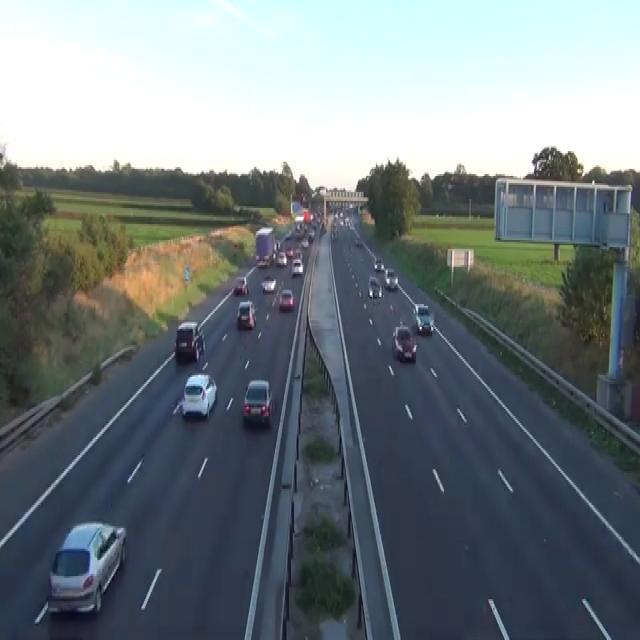Car: (46, 521, 126, 615), (181, 372, 217, 419), (45, 614, 111, 638), (243, 378, 274, 426), (175, 320, 205, 361), (392, 323, 417, 362), (412, 302, 434, 334), (236, 299, 256, 329), (384, 266, 398, 290), (367, 276, 382, 298), (279, 288, 294, 309), (233, 276, 249, 295), (417, 315, 433, 334), (260, 276, 276, 294), (90, 361, 102, 382), (291, 258, 303, 276), (413, 302, 428, 315), (276, 250, 287, 266), (373, 256, 384, 272), (257, 256, 269, 267), (294, 247, 303, 260), (307, 228, 315, 242), (183, 266, 189, 284), (274, 238, 281, 251), (285, 247, 293, 258), (284, 229, 292, 240), (320, 222, 327, 233), (331, 228, 338, 238), (301, 238, 308, 247), (354, 235, 360, 245), (344, 217, 349, 226)
Truck: (254, 226, 274, 266)
